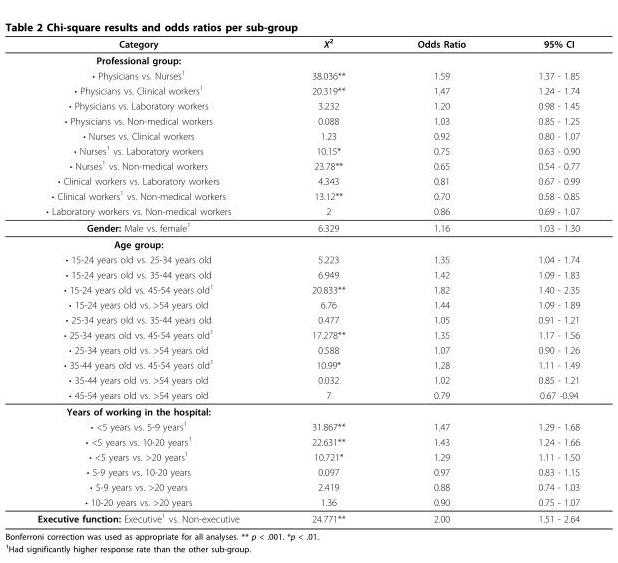table: (36, 36, 579, 524)
table column: (36, 36, 274, 524), (380, 36, 501, 524), (274, 36, 380, 524), (501, 36, 579, 524)
table column header: (36, 36, 579, 51)
table projected row header: (36, 51, 579, 67), (36, 235, 579, 251), (36, 403, 579, 418)
table row: (36, 218, 579, 235), (36, 51, 579, 67), (36, 97, 579, 113), (36, 157, 579, 173), (36, 187, 579, 203), (36, 235, 579, 251), (36, 326, 579, 342), (36, 356, 579, 372), (36, 387, 579, 403), (36, 448, 579, 464), (36, 36, 579, 51), (36, 67, 579, 82), (36, 82, 579, 97), (36, 113, 579, 128), (36, 142, 579, 157), (36, 203, 579, 218), (36, 251, 579, 266), (36, 266, 579, 281), (36, 281, 579, 296), (36, 296, 579, 311), (36, 311, 579, 326), (36, 372, 579, 387), (36, 403, 579, 418), (36, 418, 579, 433), (36, 433, 579, 448), (36, 464, 579, 479), (36, 479, 579, 494), (36, 494, 579, 509), (36, 509, 579, 524), (36, 128, 579, 142), (36, 173, 579, 187), (36, 342, 579, 356)
